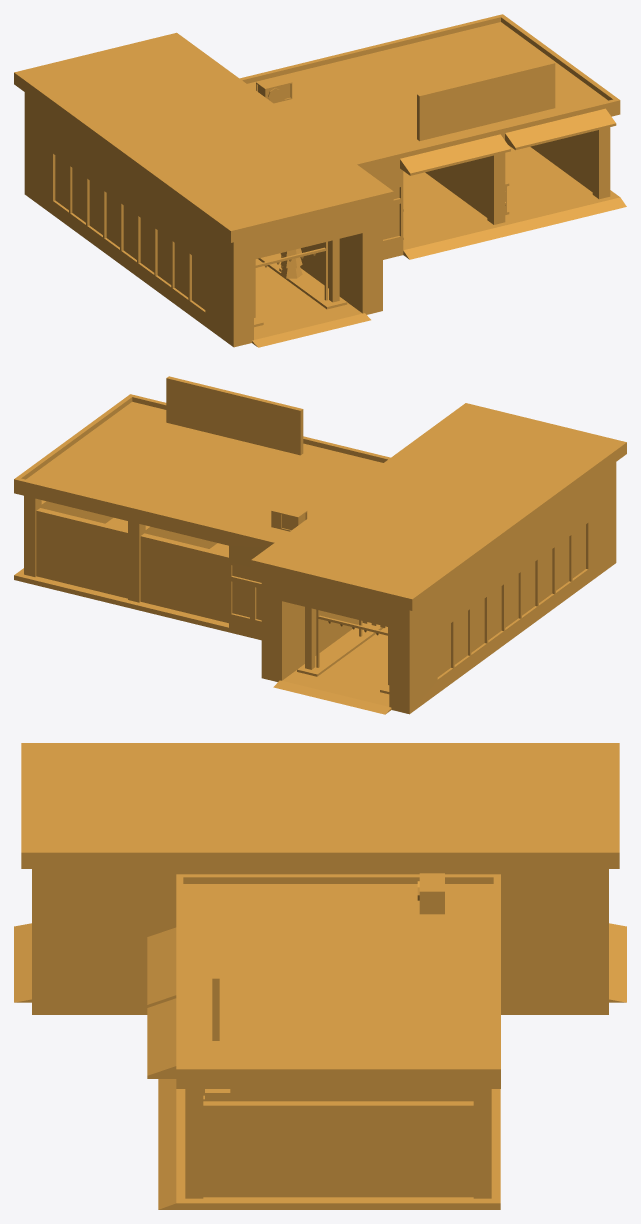
The model's file is building-carwash.fbx.
3 renders of one model, top to bottom at view 1: azimuth 30°, elevation 25°; view 2: azimuth 150°, elevation 25°; view 3: azimuth 270°, elevation 25°, orthographic. The views are drawn at different scales.
Visible parts, largest first — view 1: building-carwash; view 2: building-carwash; view 3: building-carwash.
Part boxes in pixels (x1,y1,x2,y2): building-carwash: [14, 14, 626, 347]; building-carwash: [14, 376, 626, 714]; building-carwash: [14, 743, 626, 1209].
Bounding box in the file's own units: 19.7 × 6 × 17.
